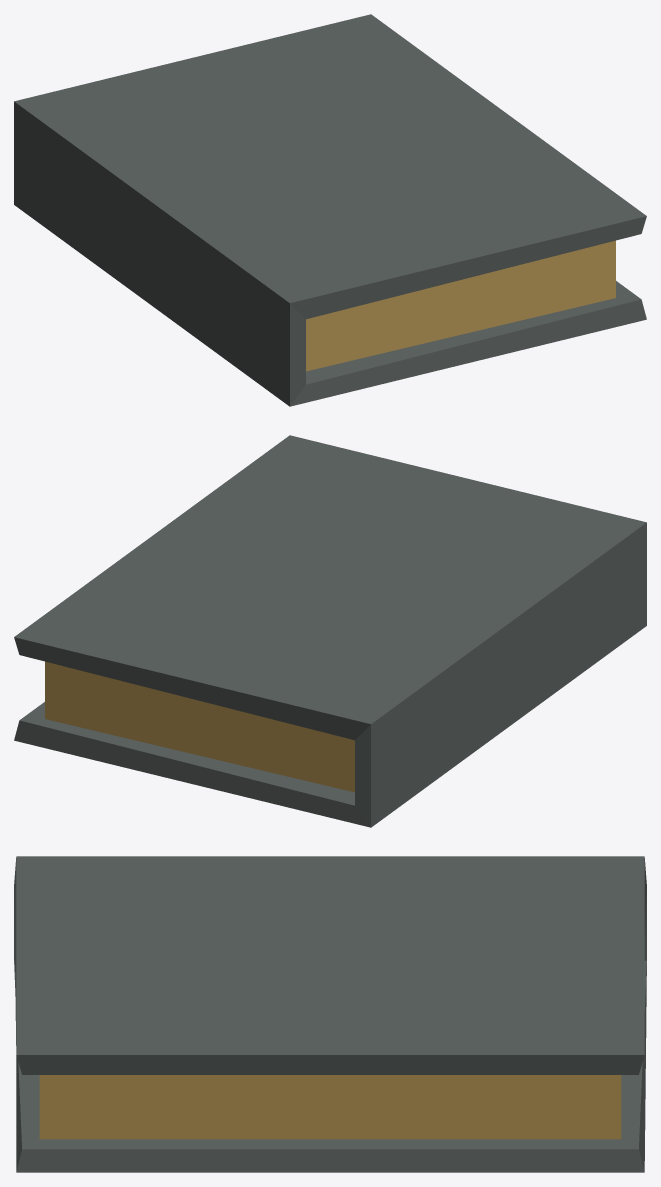
The model's file is Props.fbx_Window.fbx_Book.fbx.
3 renders of one model, top to bottom at view 1: azimuth 30°, elevation 25°; view 2: azimuth 150°, elevation 25°; view 3: azimuth 270°, elevation 25°, orthographic. The views are drawn at different scales.
Parts seen in each view (by area): view 1: Book; view 2: Book; view 3: Book.
Part boxes in pixels (x1,y1,x2,y2): Book: [14, 14, 646, 406]; Book: [14, 435, 646, 827]; Book: [14, 856, 646, 1172].
Bounding box in the file's own units: 0.4656 × 0.1289 × 0.6275.
